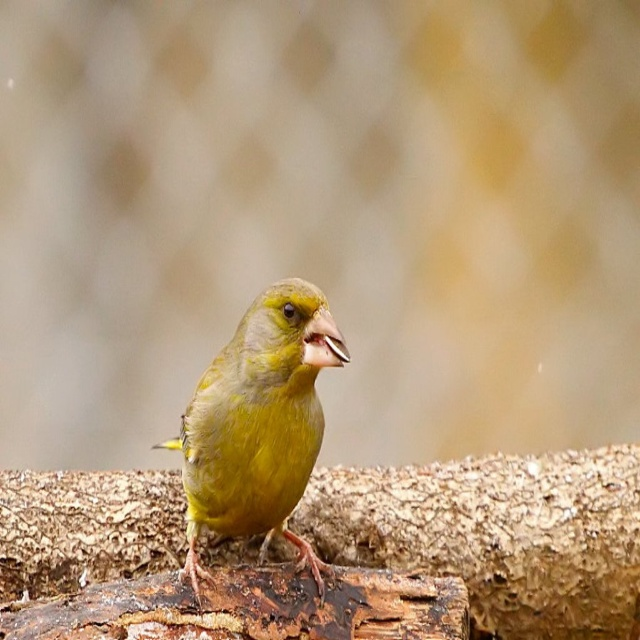Canary: (151, 272, 350, 614)
